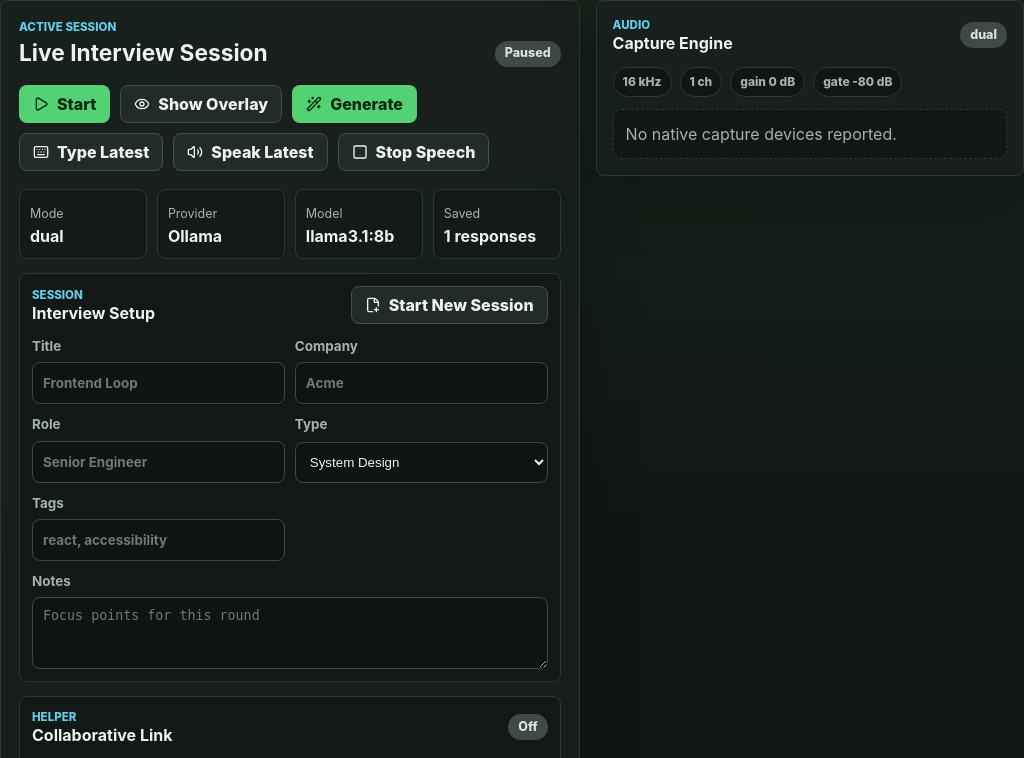
Test case: Dashboard collaboration helper › does not continue showing the overlay when bounds preflight fails privacy
Expected: the heading "Live Interview Session" is shown, top-left (19, 39), bottom-right (268, 66)
Click the button "Show Overlay": (201, 104) top-left (120, 85), bottom-right (282, 123)
(page scrolled)
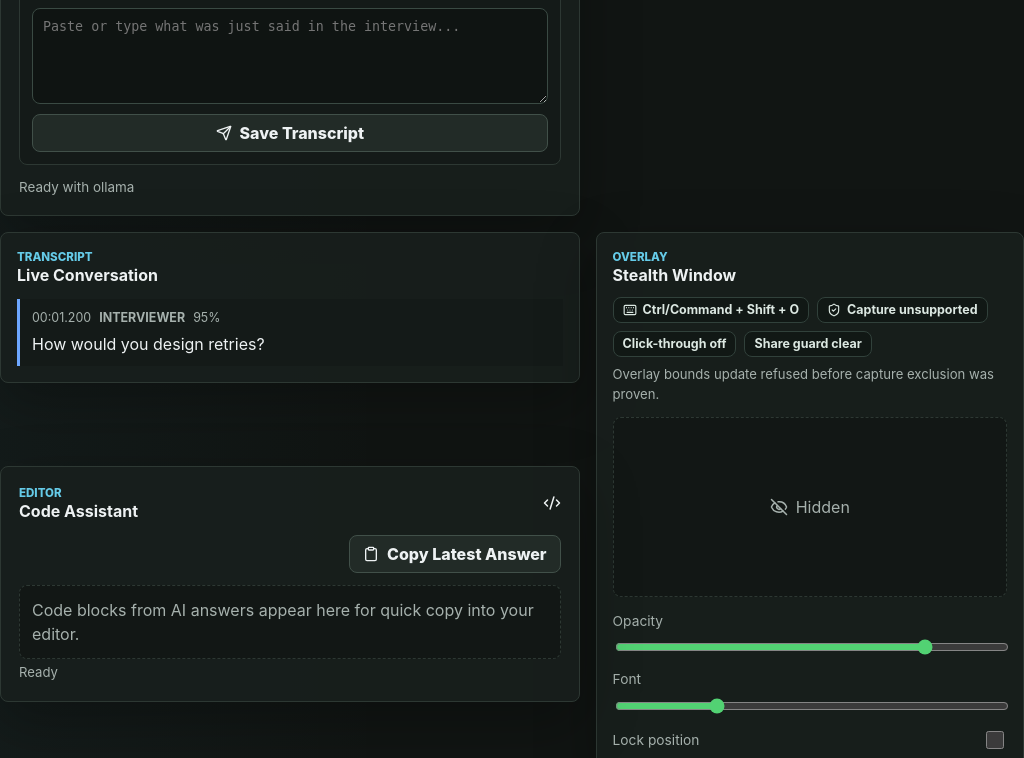
Expected: the text "Overlay bounds update refused before capture exclusion was proven." is shown, top-left (613, 365), bottom-right (1007, 405)
